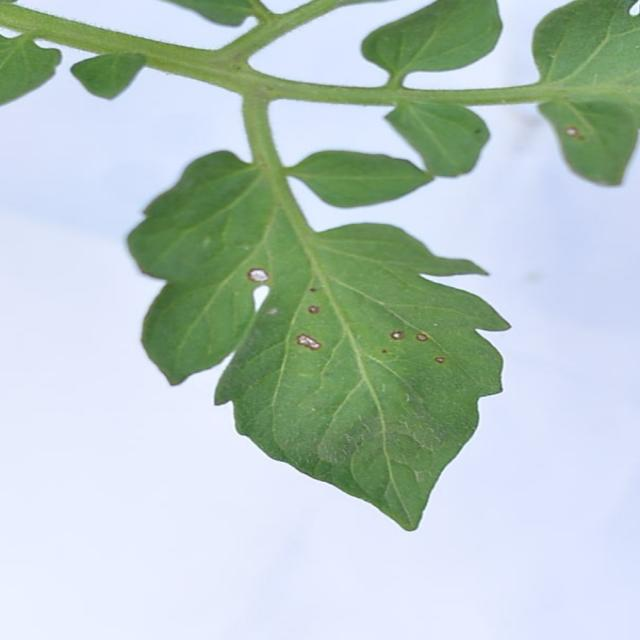infected: (235, 259, 462, 443), (551, 115, 599, 158)
